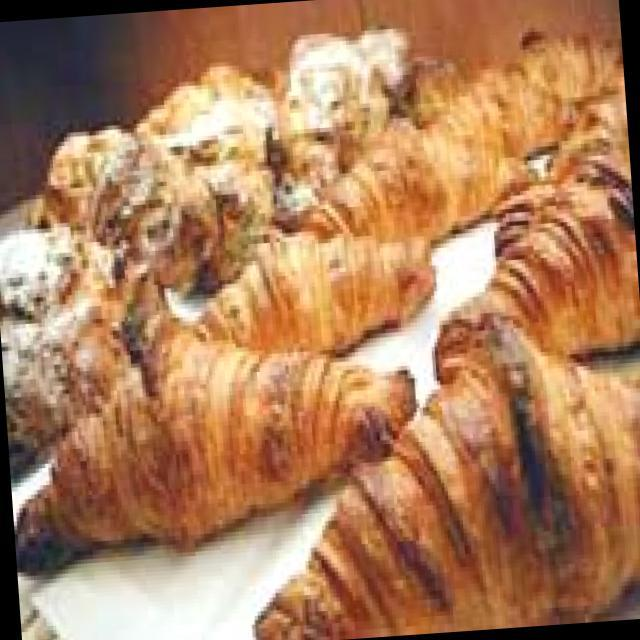Croissant: (0, 283, 441, 581)
